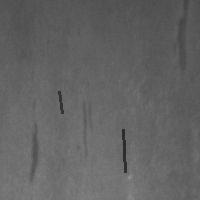inclusion: (172, 1, 192, 78), (25, 113, 45, 184), (76, 97, 96, 160), (121, 127, 127, 174), (57, 89, 64, 115)
